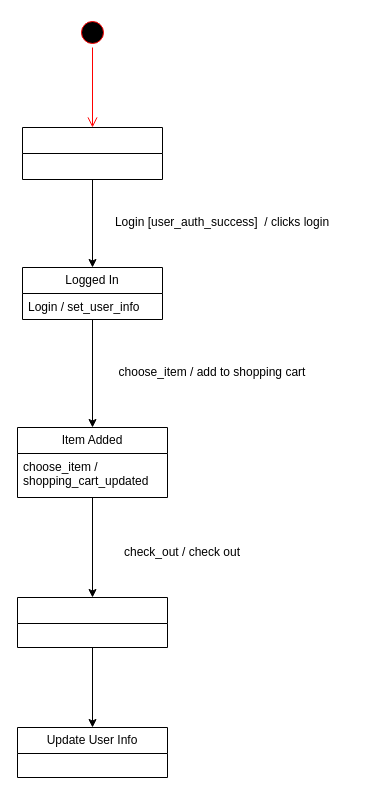
Image size: 365x795. Some labels were removed from this diagram. Each missing label, with the box of its shape:
Check Out: (16, 596, 168, 648)
Guest: (22, 126, 162, 180)
